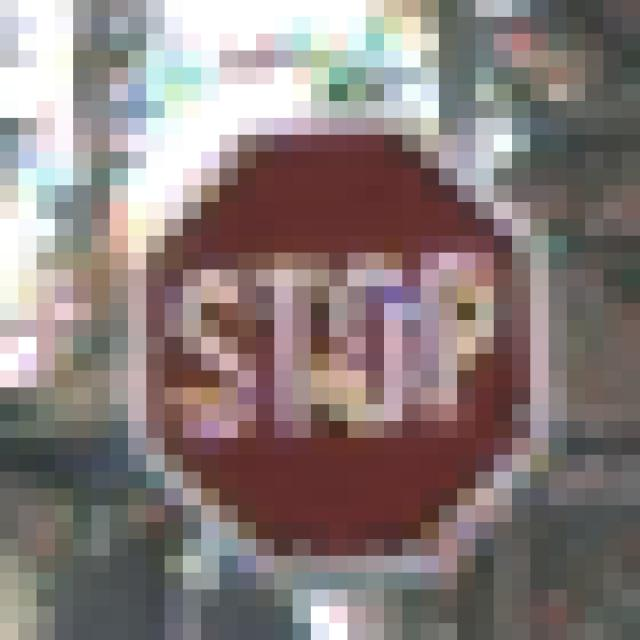STOP: (111, 102, 550, 557)
